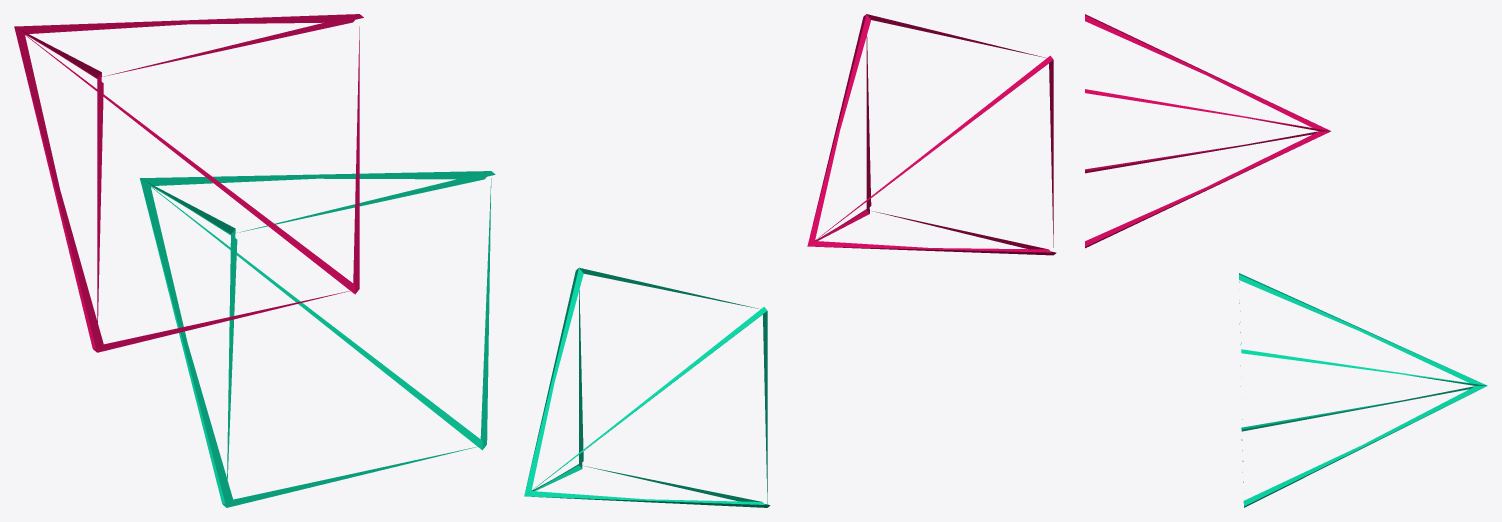
Rendered from glbscene_50_All_maskbFalse_maskwFalse_camTrue_skyFalse_predDepthmap_and_Camera_Branch.glb.
3 renders of one model, left to right at view 1: azimuth 30°, elevation 25°; view 2: azimuth 150°, elevation 25°; view 3: azimuth 270°, elevation 25°, orthographic. The views are drawn at different scales.
Visible parts, largest first — view 1: world; view 2: world; view 3: world.
Part boxes in pixels (x1,y1,x2,y2): world: [14, 14, 495, 507]; world: [524, 14, 1056, 507]; world: [1085, 14, 1487, 507].
Bounding box in the file's own units: 0.1075 × 0.1155 × 0.121.
